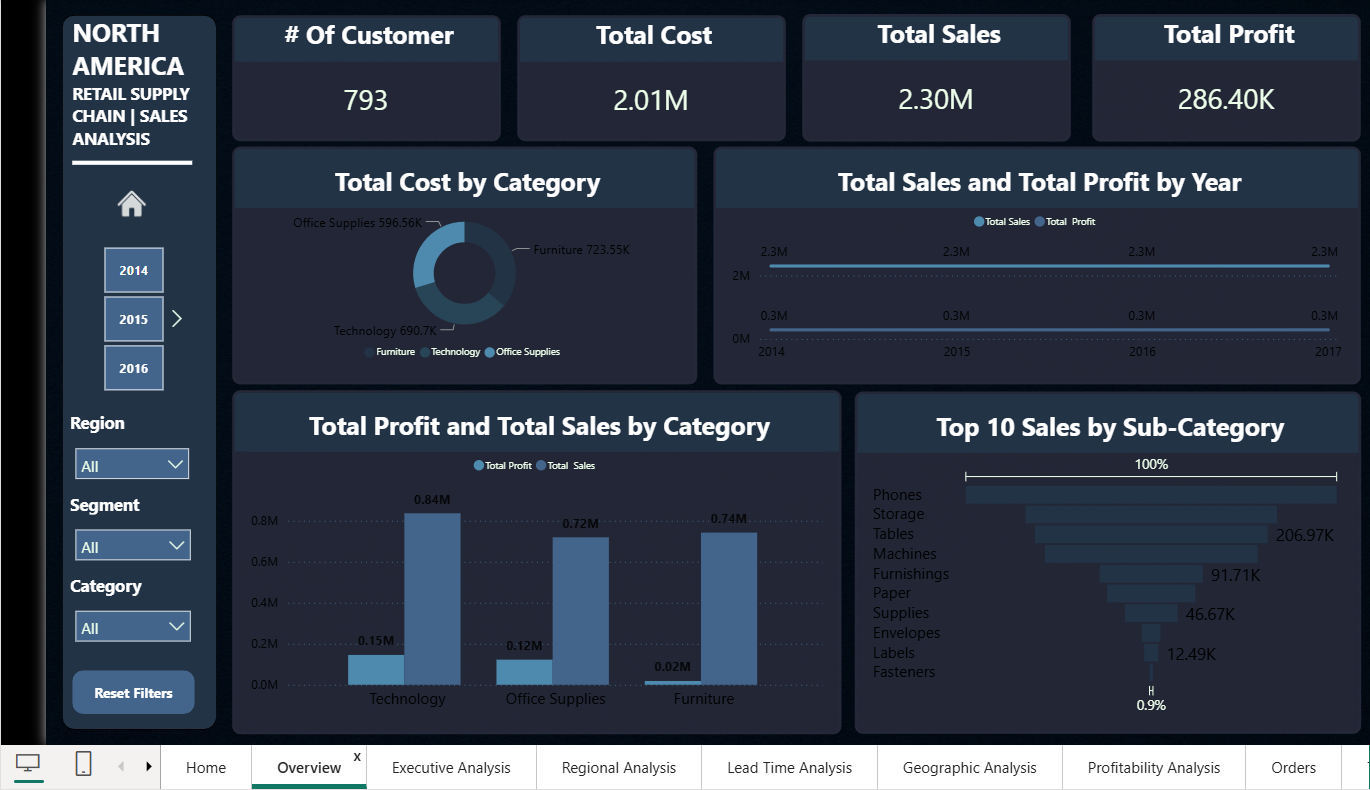

The dashboard page shown, as its layout file describes it:
{"tool":"powerbi","page":{"name":"Overview","canvas":[1280,720],"ordinal":1},"visuals":[{"type":"group","id":"g1","title":"Group 1","box":[179.8,14.5,1089.4,694.9],"z":0},{"type":"card","title":"Total Sales","fields":{"Values":["Table.Total Sales"]},"box":[730.3,14.5,259.2,123.1],"z":0,"group":"g1"},{"type":"lineChart","fields":{"Y":["Sum(Fact_Retails_.Sales)","Sum(Retails_Order.Profit)"],"Category":["Calendar_Table.Date.Variation.Date Hierarchy.Year"]},"box":[644.1,142.7,624.6,229.3],"z":1000,"group":"g1"},{"type":"card","title":"Total Profit","fields":{"Values":["Table.Total Profit"]},"box":[1010,14.5,259.2,123.1],"z":2000,"group":"g1"},{"type":"image","box":[54.3,167.7,59.1,60.3],"z":3000},{"type":"funnel","fields":{"Category":["Retails_Order.Sub-Category"],"Y":["Sum(Retails_Order.Sales)"]},"box":[780.2,379,488.5,330.4],"z":3000,"group":"g1"},{"type":"shape","box":[0,0,179.8,720.2],"z":4000},{"type":"card","title":"# Of Customer","fields":{"Values":["Table.Number of Customers"]},"box":[179.8,15.9,259.2,121.7],"z":4000,"group":"g1"},{"type":"shape","box":[25.3,105,115.8,106.2],"z":5000},{"type":"clusteredColumnChart","fields":{"Y":["Sum(Retails_Order.Profit)","Sum(Retails_Order.Sales)"],"Category":["Retails_Order.Category"]},"box":[179.8,377.6,588.3,331.8],"z":5000,"group":"g1"},{"type":"card","title":"Total Cost","fields":{"Values":["Table.Total Cost"]},"box":[455.1,15.9,259.2,121.7],"z":6000,"group":"g1"},{"type":"textbox","box":[1119,62,150,150],"z":6000},{"type":"textbox","box":[25.3,15.7,141.2,174.9],"z":7000},{"type":"donutChart","fields":{"Category":["Retails_Order.Category"],"Y":["Sum(Retails_Order.Cost)"]},"box":[179.8,142.7,449.2,229.3],"z":7000,"group":"g1"},{"type":"image","box":[53.1,167.7,59.1,60.3],"z":8000},{"type":"slicer","fields":{"Values":["Calendar_Table.Date.Variation.Date Hierarchy.Year"]},"box":[25.3,228,117,161.7],"z":9000},{"type":"slicer","title":"Region","fields":{"Values":["Retails_Order.Region"]},"box":[13.3,387.3,139.9,85.7],"z":10000},{"type":"slicer","title":"Segment","fields":{"Values":["DIM_Customer.Segment"]},"box":[13.3,465.7,141.2,85.7],"z":11000},{"type":"slicer","title":"Category","fields":{"Values":["DIM_Product.Category"]},"box":[13.3,544.1,141.2,85.7],"z":13000},{"type":"actionButton","box":[25.3,647.9,118.2,42.2],"z":14000}]}

Visuals, with their boxes on the page's 1280x720 design canvas (x1, y1, x2, y2). These are canvas units, not pixel positions in the 1370x790 screenshot, which may show the page scaled, cropped or inside an application window:
"Group 1" group: locate(180, 14, 1269, 709)
"Total Sales" card: locate(730, 14, 990, 138)
lineChart - Sum(Fact_Retails_.Sales) x Sum(Retails_Order.Profit): locate(644, 143, 1269, 372)
"Total Profit" card: locate(1010, 14, 1269, 138)
image: locate(54, 168, 113, 228)
funnel - Retails_Order.Sub-Category x Sum(Retails_Order.Sales): locate(780, 379, 1269, 709)
shape: locate(0, 0, 180, 720)
"# Of Customer" card: locate(180, 16, 439, 138)
shape: locate(25, 105, 141, 211)
clusteredColumnChart - Sum(Retails_Order.Profit) x Sum(Retails_Order.Sales): locate(180, 378, 768, 709)
"Total Cost" card: locate(455, 16, 714, 138)
textbox: locate(1119, 62, 1269, 212)
textbox: locate(25, 16, 166, 191)
donutChart - Retails_Order.Category x Sum(Retails_Order.Cost): locate(180, 143, 629, 372)
image: locate(53, 168, 112, 228)
slicer - Calendar_Table.Date.Variation.Date Hierarchy.Year: locate(25, 228, 142, 390)
"Region" slicer: locate(13, 387, 153, 473)
"Segment" slicer: locate(13, 466, 154, 551)
"Category" slicer: locate(13, 544, 154, 630)
actionButton: locate(25, 648, 144, 690)
